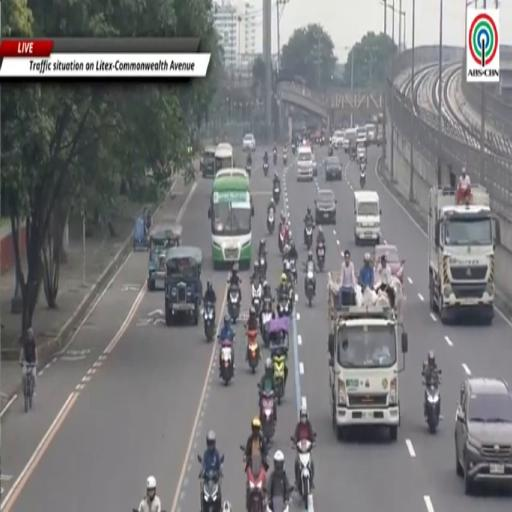bus: (209, 169, 253, 268), (215, 142, 235, 173)
car: (455, 376, 511, 494), (373, 245, 405, 283), (315, 189, 336, 225), (297, 146, 313, 181), (325, 156, 342, 180), (242, 134, 256, 152), (331, 131, 344, 149), (357, 144, 366, 164), (342, 138, 349, 153), (313, 154, 317, 177)
jeepney: (165, 247, 202, 326), (147, 223, 182, 291), (201, 146, 215, 179)
motorcycle: (291, 438, 313, 509), (246, 460, 266, 511), (424, 379, 440, 433), (201, 470, 221, 511), (260, 391, 275, 443), (272, 351, 286, 405), (247, 330, 260, 373), (221, 341, 233, 386), (261, 297, 272, 346), (203, 303, 215, 342), (251, 279, 263, 316), (228, 286, 240, 323), (305, 266, 314, 307), (267, 496, 289, 511), (279, 223, 288, 254), (316, 243, 325, 271), (277, 297, 289, 317), (304, 224, 313, 249), (289, 260, 297, 287), (259, 255, 267, 281), (267, 208, 275, 234), (273, 182, 280, 204), (360, 168, 365, 188), (263, 163, 268, 177), (246, 164, 251, 177), (328, 146, 333, 156), (283, 153, 287, 165), (273, 151, 276, 166), (292, 143, 296, 154)
truck: (328, 272, 408, 440), (428, 184, 500, 324), (345, 128, 356, 153)
